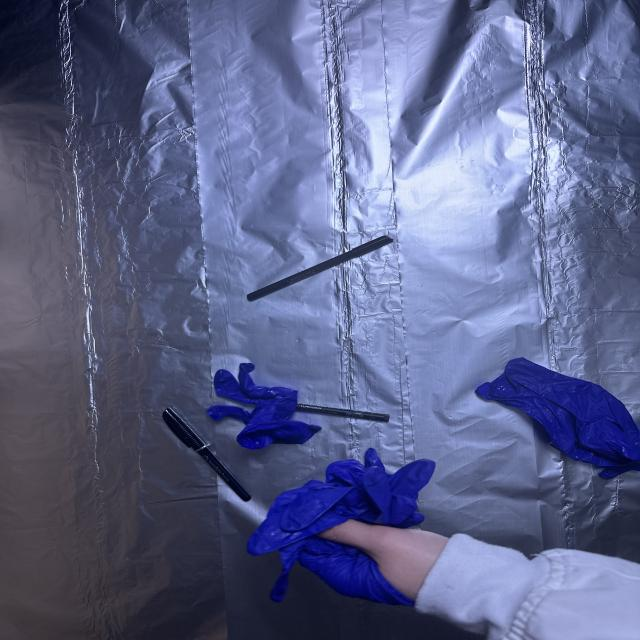glove_partial: (233, 448, 452, 615)
